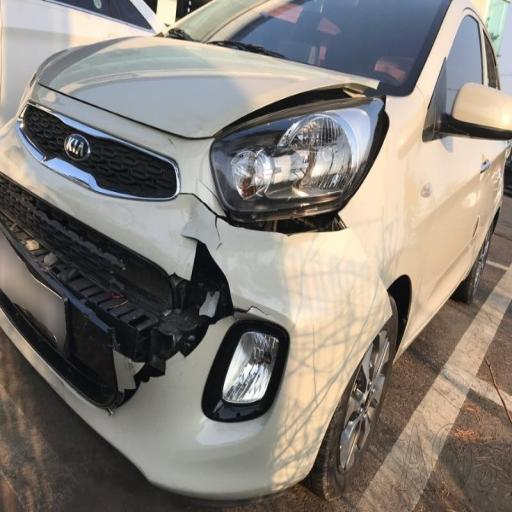broken: (52, 108, 278, 440), (305, 186, 415, 352)
